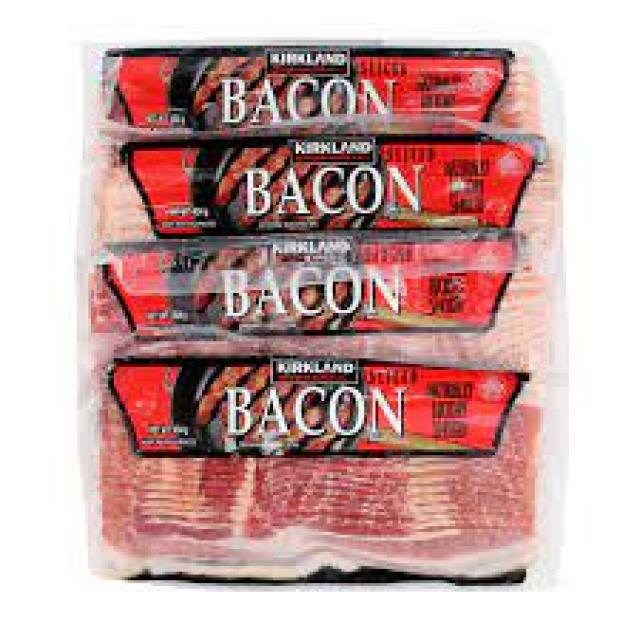bacon: (106, 454, 533, 555)
